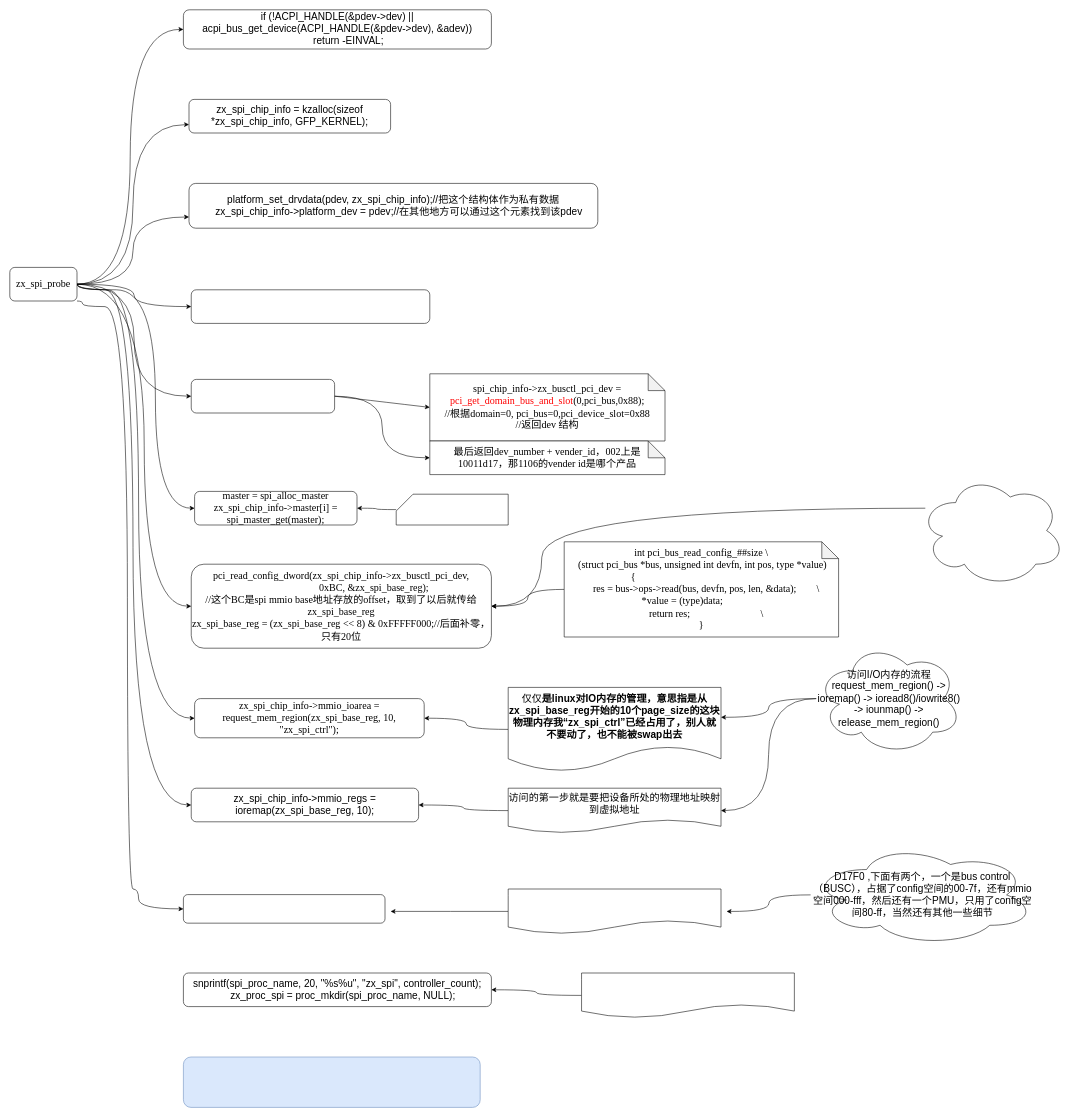
Some shapes in this 1075 by 1117 pixel diagram are drawn without their labels. Here are the shapes that lost their labels. From the top down, the centre of each, then its label:
At point 310,306: "list_for_each_entry(hwid, &adev->pnp.ids, list){".
At point 263,396: "zx_get_pcidev(zx_spi_chip_info);".
At point 452,509: "struct zx_spi_master_extension".
At point 992,530: "spi不是pcidevice，但他的IO信息是放在一个MMIO空间里的，base就在D17F0的config空间的0xBC的位置".
At point 284,908: "/* Important! */ enable_rom_write(zx_spi_chip_info);".
At point 614,911: "往D17F0 BUS Control的config 空间的0x40写0x10".
At point 687,995: "在/proc 下面创建一个zx_spi0的文件夹".
At point 331,1081: "zx_spi_master_start(zx_spi_chip_info, &zx_master_0); 主要是用来初始化结构体spi_master".
